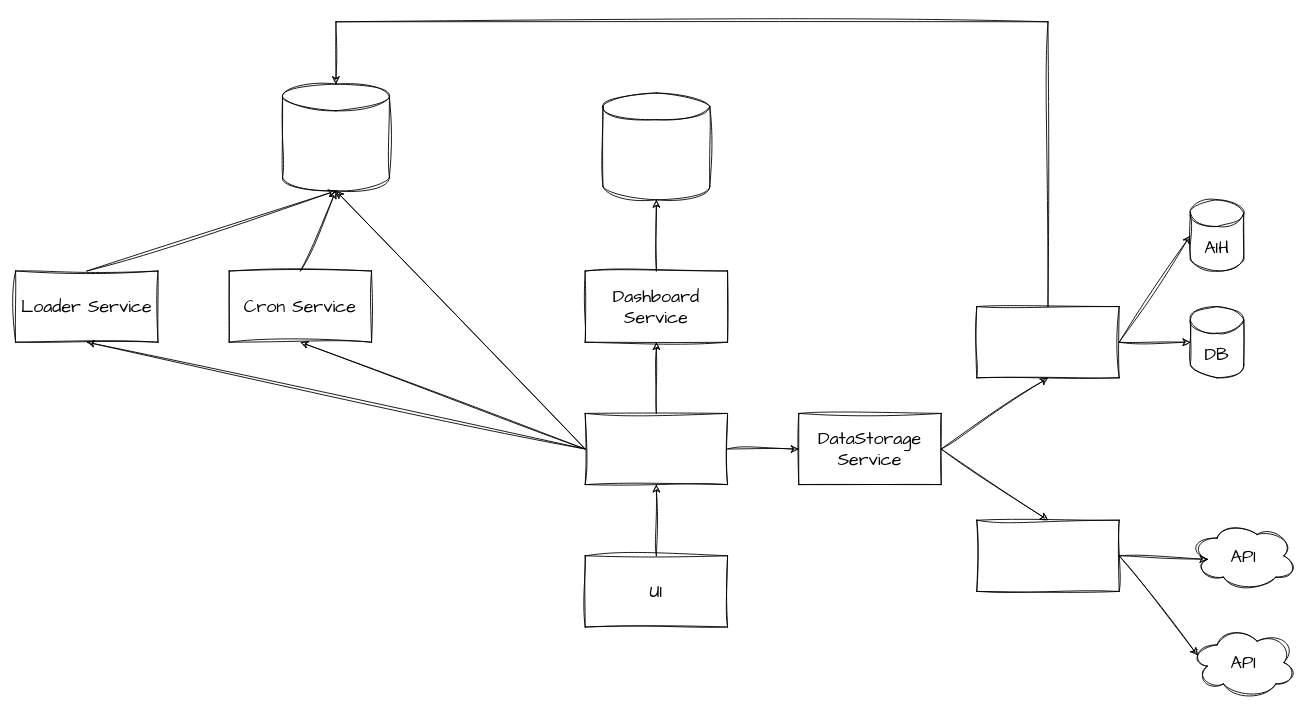
The diagram is 1313 pixels wide and 714 high, and some of its shapes have lost their labels. The centre of each missing label's shape, as x and y in pixels:
"API Call" belongs at point (1047, 555).
"Dashboard Service DB" belongs at point (656, 146).
"Database Query" belongs at point (1047, 342).
"Gateway" belongs at point (656, 449).
"kpi5dash" belongs at point (335, 137).
